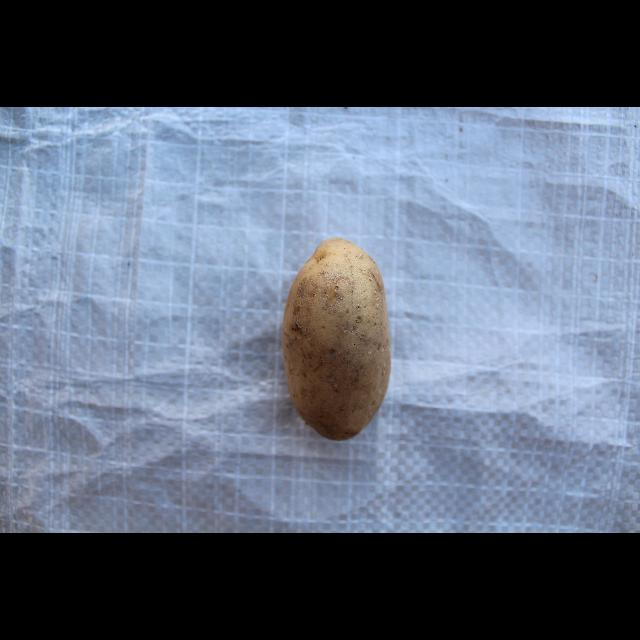Diseased-fungal potato: (278, 234, 396, 444)
